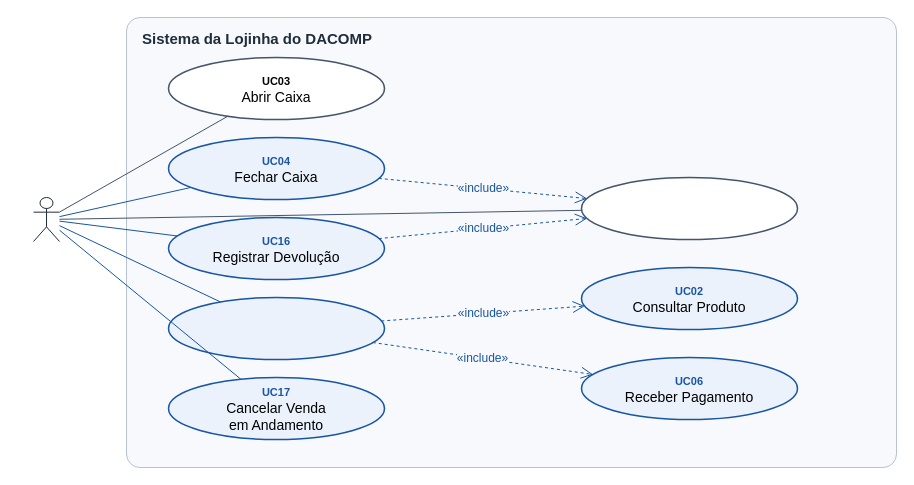
This 914x485 diagram has some shape labels left out. The box of each missing label's shape, as (x1, y1, x2, y2) in pixels:
Operador: (32, 196, 60, 242)
UC05 Registrar Venda: (167, 296, 385, 360)
UC07 Consultar Vendas: (580, 176, 798, 240)
